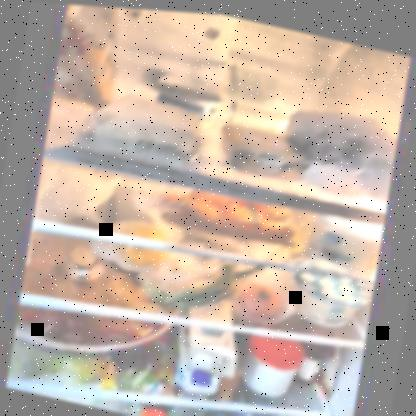butter: (216, 115, 310, 179)
carrot: (166, 180, 297, 243)
cheese: (98, 86, 204, 143)
green_chillies: (139, 243, 239, 316)
milk: (174, 321, 238, 394)
tomato: (234, 277, 289, 320)
yoghurt: (288, 260, 375, 327), (314, 209, 382, 269), (153, 77, 226, 113)
